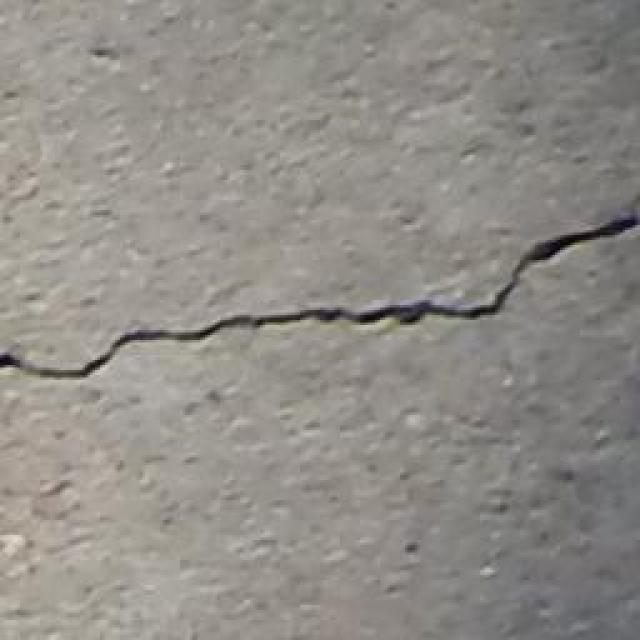concrete-crack: (1, 205, 640, 386)
